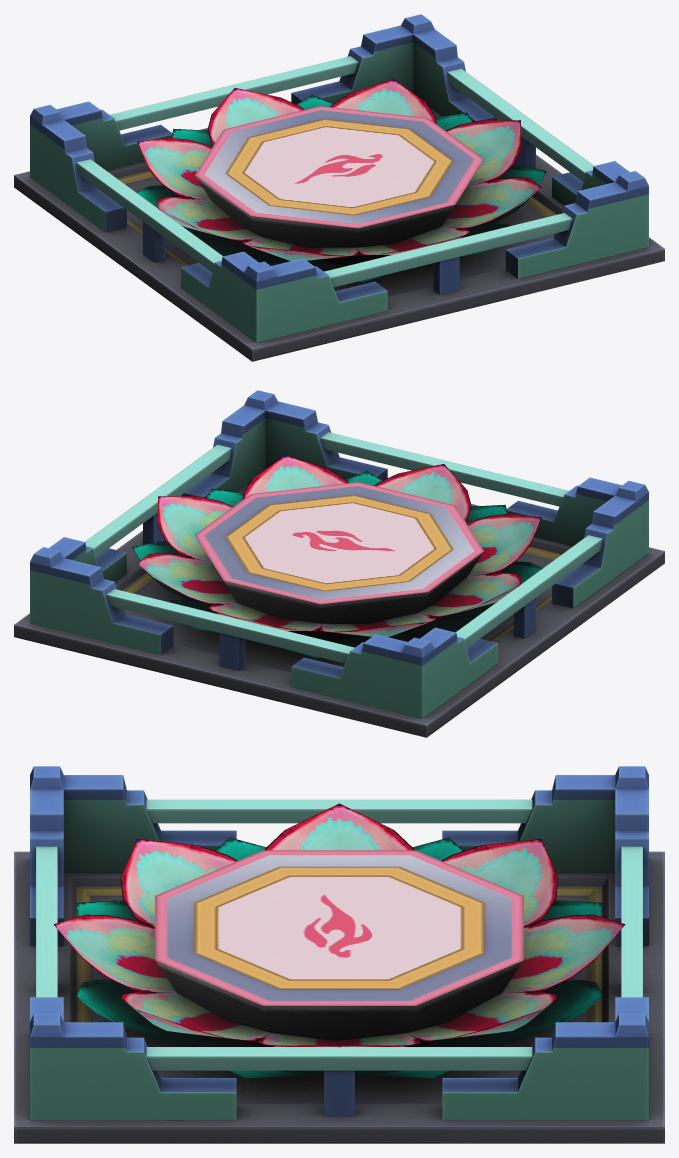
Rendered from trap_238_dydfst.fbx.
3 renders of one model, top to bottom at view 1: azimuth 30°, elevation 25°; view 2: azimuth 150°, elevation 25°; view 3: azimuth 270°, elevation 25°, orthographic. The views are drawn at different scales.
Visible parts, largest first — view 1: trap_238_dydfst; view 2: trap_238_dydfst; view 3: trap_238_dydfst.
Boxes of the visible parts, x1,y1,x2,y2 form: trap_238_dydfst: (14,14,664,361); trap_238_dydfst: (14,390,664,737); trap_238_dydfst: (14,766,664,1143).
Size of the model in its own units: 1 by 0.2373 by 1.
Materials: 1 (1 with a texture image).
